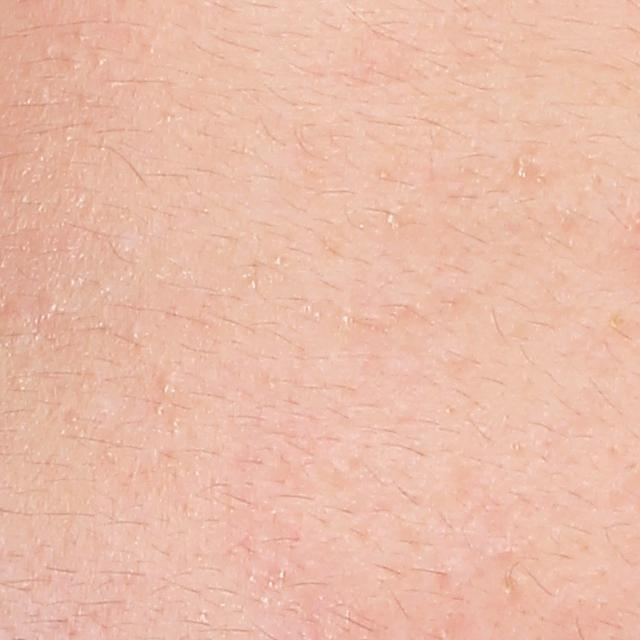comedo: (156, 373, 181, 401)
